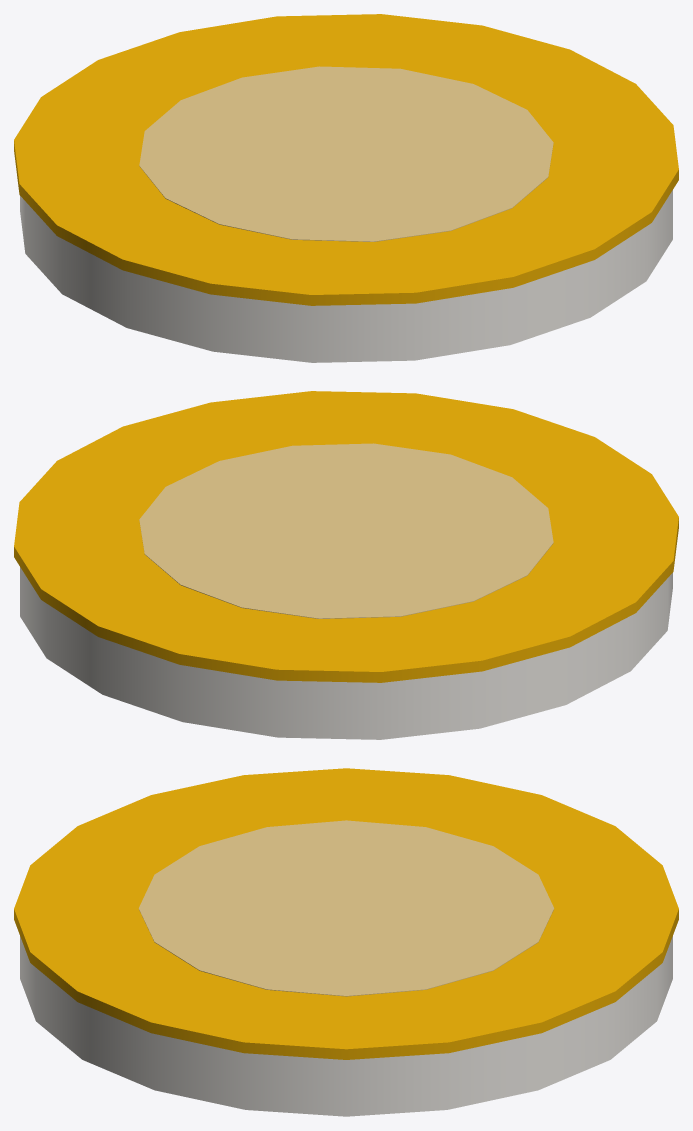
Rendered from station_transport_basis.glb.
3 renders of one model, top to bottom at view 1: azimuth 30°, elevation 25°; view 2: azimuth 150°, elevation 25°; view 3: azimuth 270°, elevation 25°, orthographic.
Parts seen in each view (by area): view 1: station_transport_basis; view 2: station_transport_basis; view 3: station_transport_basis.
Boxes of the visible parts, bbox=[...] form: station_transport_basis: bbox=[14, 14, 678, 362]; station_transport_basis: bbox=[14, 391, 678, 739]; station_transport_basis: bbox=[14, 768, 678, 1116].
Bounding box in the file's own units: 1.12 × 0.131 × 1.12.
